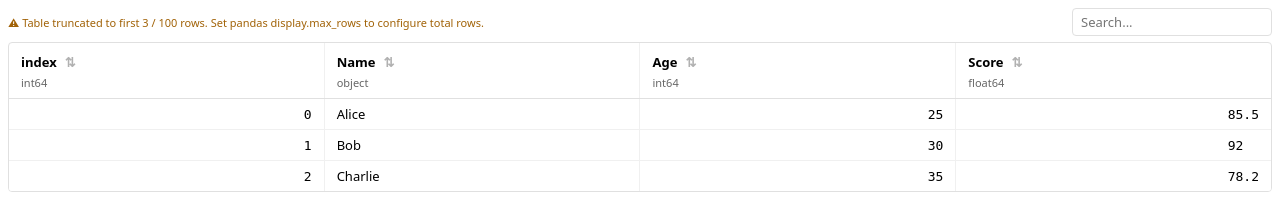
Test: MitoViewer › shows truncation warning when search has no matches on truncated data
Type "Nonexistent" into the field with placeholder "Search..." at [1172, 22], box [1072,8,1272,36]
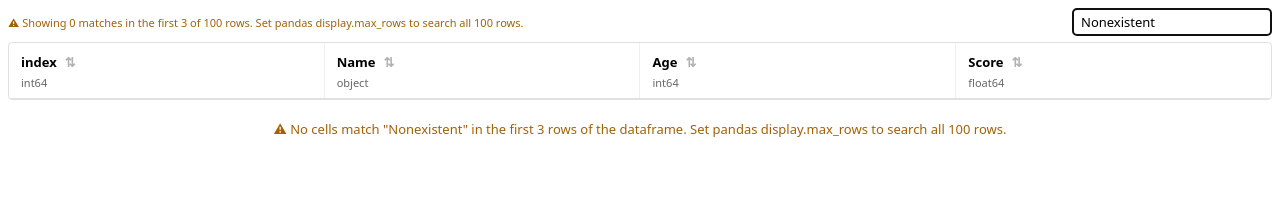
Result: the text "first 3 of 100 rows" is shown at [8,14,523,30]
